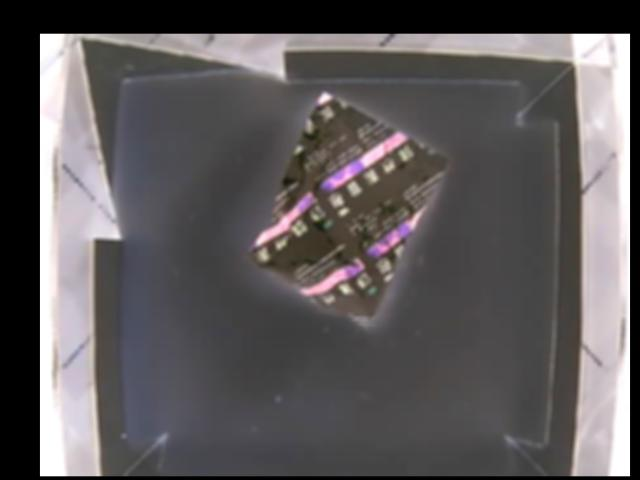Medicine: (250, 90, 450, 322)
